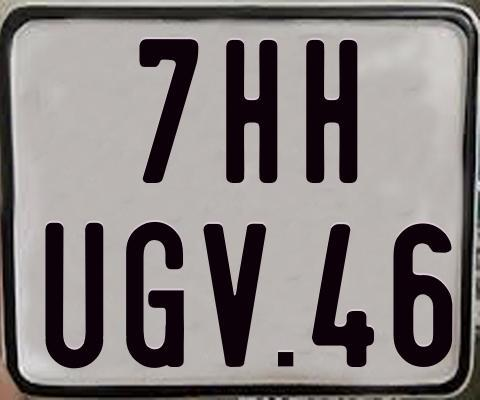4: (311, 221, 378, 365)
6: (391, 221, 454, 369)
7: (139, 39, 200, 187)
G: (124, 219, 187, 368)
H: (224, 37, 278, 185), (304, 37, 356, 185)
U: (42, 221, 101, 371)
V: (203, 221, 267, 364)
